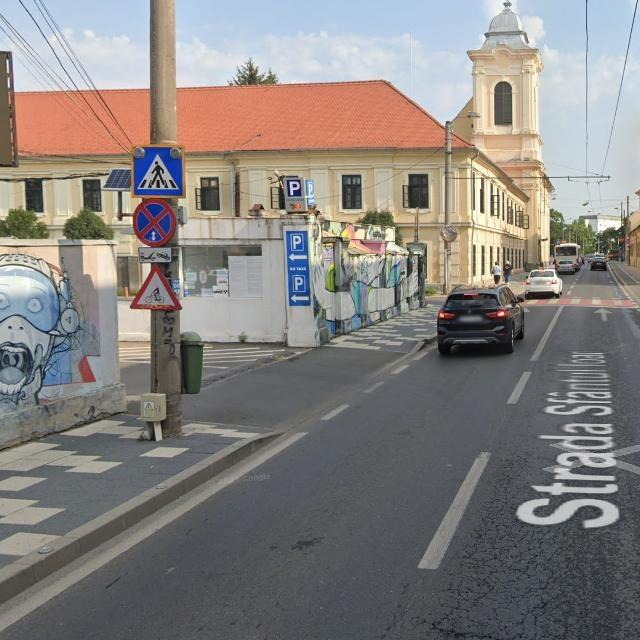forb_waiting: (132, 199, 177, 247)
info_crosswalk: (130, 145, 187, 199)
